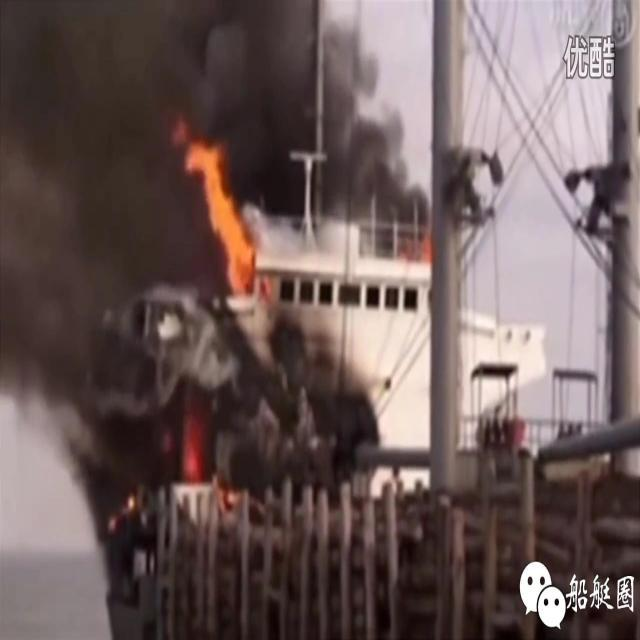Fire: (173, 117, 266, 300), (166, 406, 242, 512), (404, 231, 431, 265)
Smoke: (0, 0, 433, 524)
